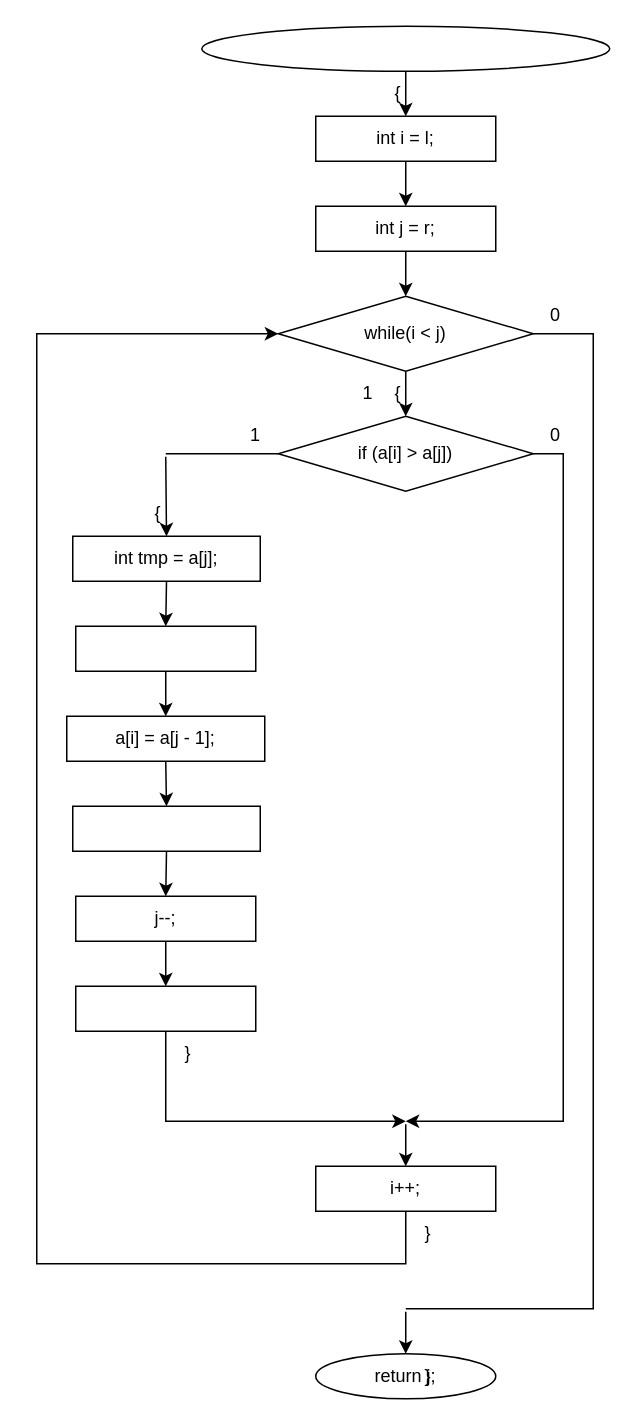
Image size: 636x1425. Some labels were removed from this diagram. Each missing label, with the centre of its shape:
a[j - 1] = tmp;: point (165, 828)
a[j] = a[i];: point (165, 648)
i--;: point (165, 1008)
int partition(int a[], int l, int r): point (405, 48)
